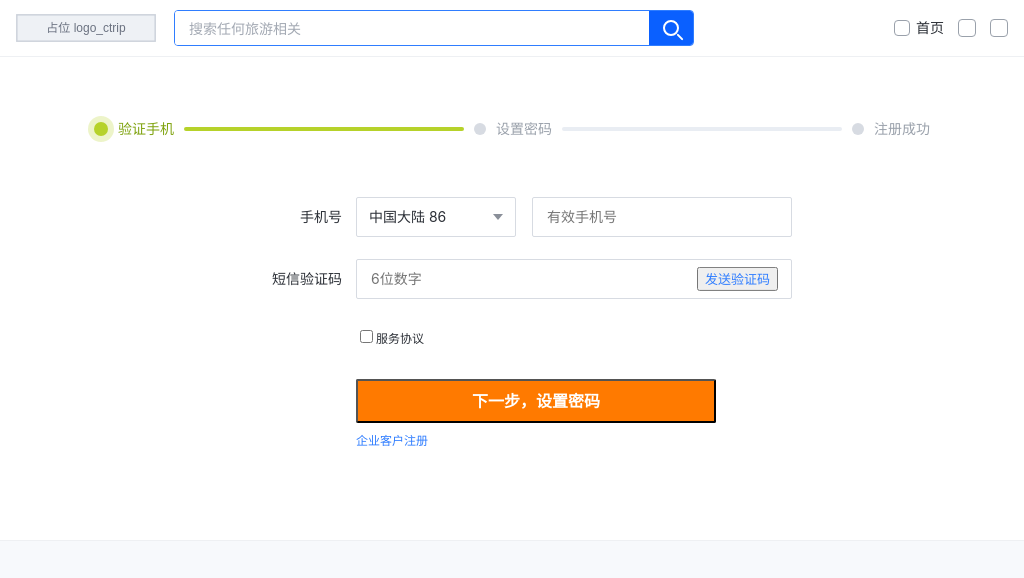
it: 注册模块 - 步骤1 场景用例 › Scenario: 2.1.8 用户输入错误的验证码
In the field with placeholder "有效手机号": x=662, y=217 [532, 197, 792, 237], type "13800138000"
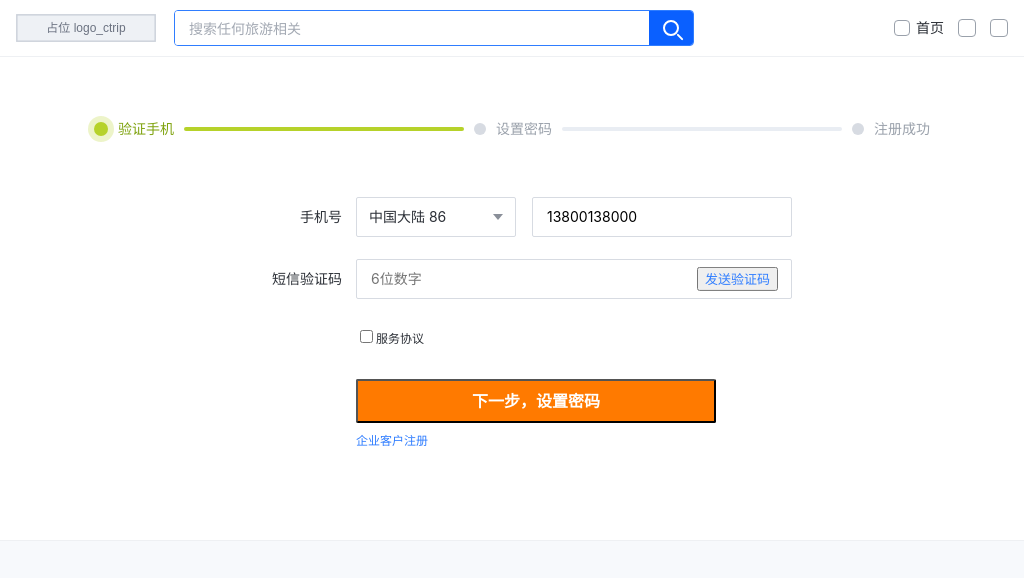
In the field with placeholder "6位数字": x=574, y=279 [356, 259, 792, 299], type "123456"
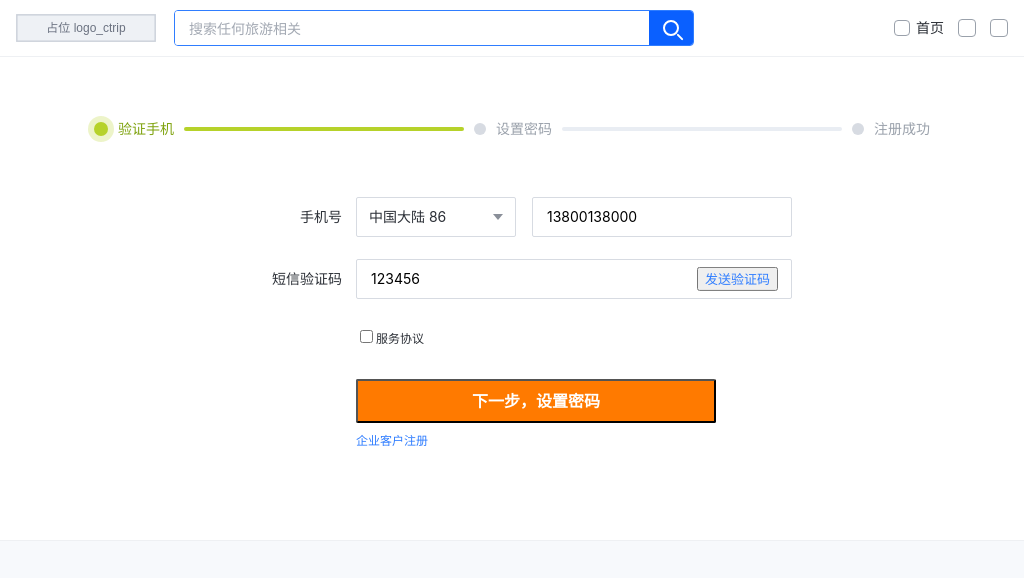
Click the checkbox labelled "服务协议": x=366, y=336 [360, 330, 373, 343]
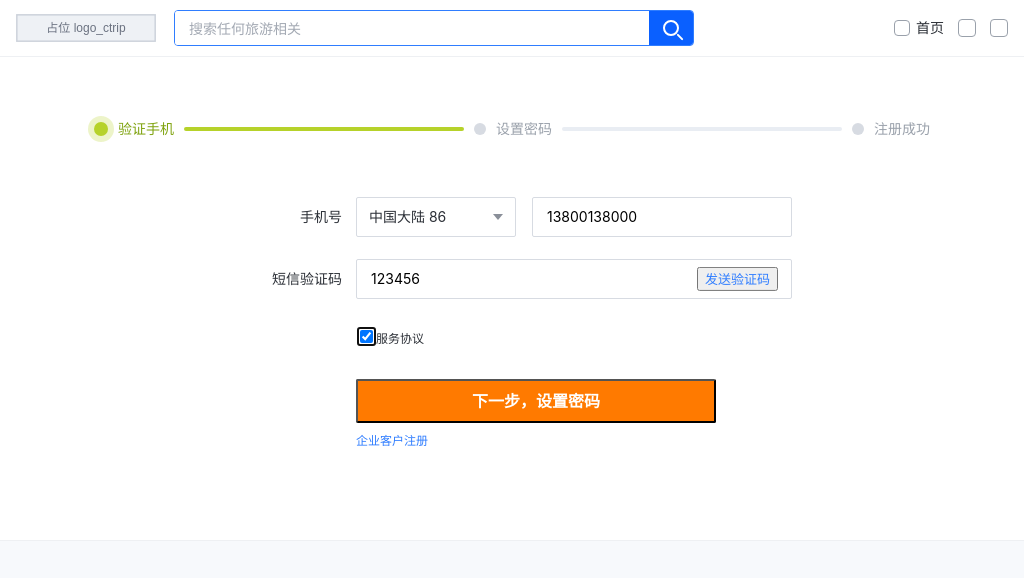
Click the button "下一步，设置密码": x=536, y=401 [356, 379, 716, 423]
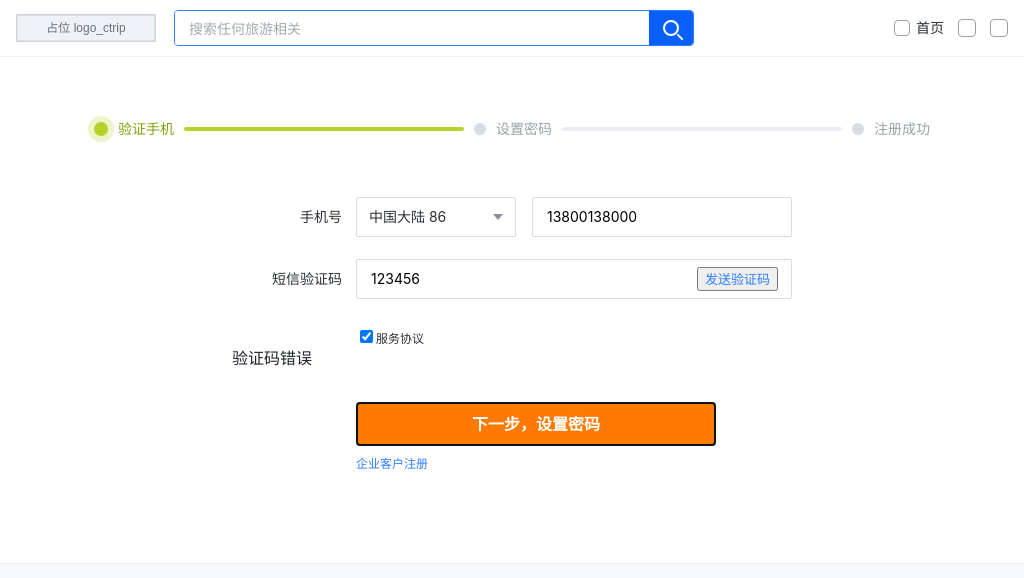
Expected: the text "验证码错误" is shown, [232, 348, 312, 368]
